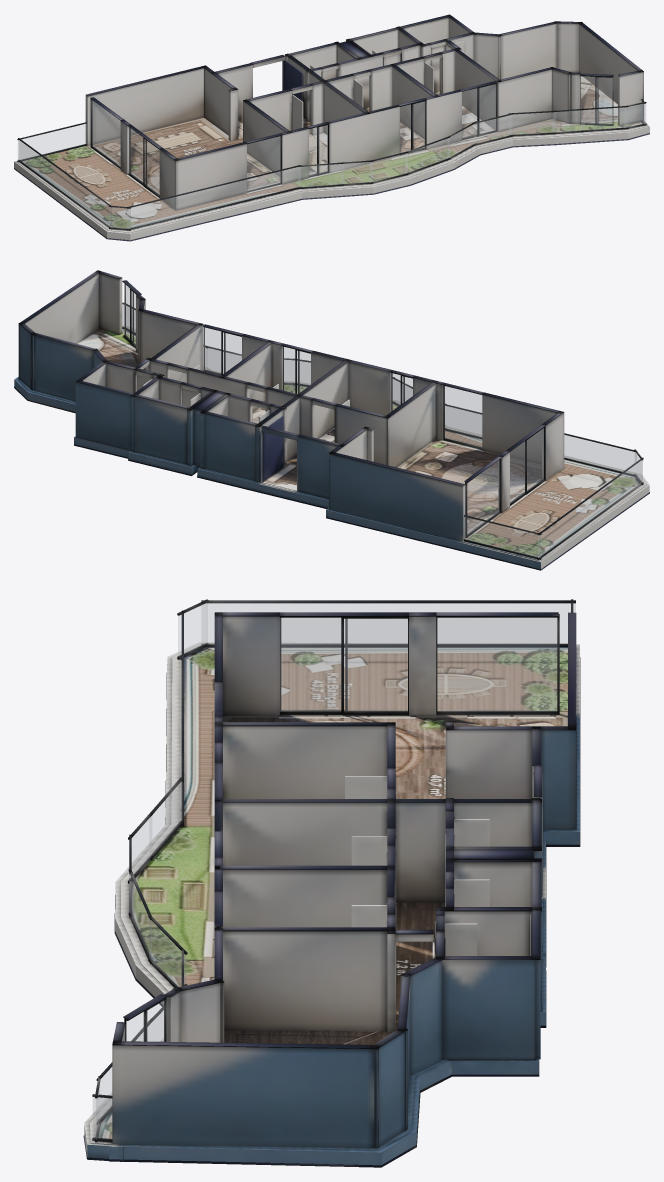
The picture shows the model from 3 angles, top to bottom: view 1: azimuth 30°, elevation 25°; view 2: azimuth 150°, elevation 25°; view 3: azimuth 270°, elevation 25°; orthographic projection. The views are drawn at different scales.
Visible parts, largest first — view 1: plan, railg1_m, railg14_m, glass2_m, glass5_m, railg0_m, glass0_m, glass1_m, glass6_m, glass4_m, railg6_m, railg9_m (+10 smaller); view 2: plan, railg1_m, railg14_m, glass2_m, railg0_m, glass0_m, glass1_m, glass5_m, glass4_m, glass3_m, glass6_m, railg2_m; view 3: plan, glass1_m, glass0_m, railg14_m, railg10_m, railg12_m, railg13_m, glass6_m, railg11_m, railg8_m.
Part boxes in pixels (<box>): plan: <box>14,14,649,241</box>; railg1_m: <box>127,167,300,228</box>; railg14_m: <box>19,140,111,227</box>; glass2_m: <box>247,136,280,190</box>; glass5_m: <box>462,84,495,138</box>; railg0_m: <box>18,124,86,160</box>; glass0_m: <box>92,100,120,166</box>; glass1_m: <box>129,127,159,194</box>; glass6_m: <box>580,76,612,123</box>; glass4_m: <box>400,101,424,152</box>; railg6_m: <box>581,107,627,130</box>; railg9_m: <box>509,112,555,134</box>; plan: <box>14,270,649,570</box>; railg1_m: <box>445,406,636,474</box>; railg14_m: <box>538,460,642,557</box>; glass2_m: <box>444,386,481,447</box>; railg0_m: <box>464,517,540,557</box>; glass0_m: <box>467,460,499,534</box>; glass1_m: <box>510,428,543,503</box>; glass5_m: <box>204,327,241,374</box>; glass4_m: <box>283,347,310,393</box>; glass3_m: <box>391,373,412,411</box>; glass6_m: <box>124,283,135,344</box>; railg2_m: <box>208,348,241,373</box>; plan: <box>83,599,580,1167</box>; glass1_m: <box>280,618,407,711</box>; glass0_m: <box>437,618,556,711</box>; railg14_m: <box>202,603,575,643</box>; railg10_m: <box>149,919,186,986</box>; railg12_m: <box>149,782,181,857</box>; railg13_m: <box>178,604,207,656</box>; glass6_m: <box>126,1001,163,1041</box>; railg11_m: <box>130,875,151,960</box>; railg8_m: <box>129,816,151,880</box>.
Size of the model in its own units: 24.81 by 2.62 by 10.19.
2 materials, 1 textured.
